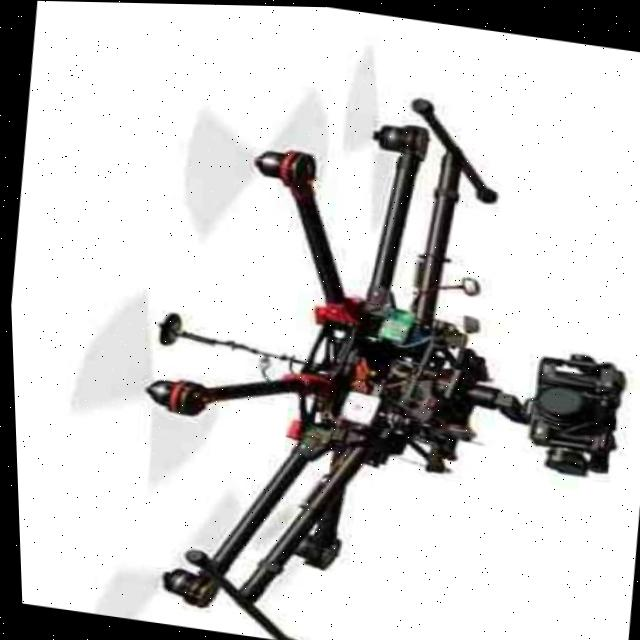drones: (34, 22, 640, 640)
